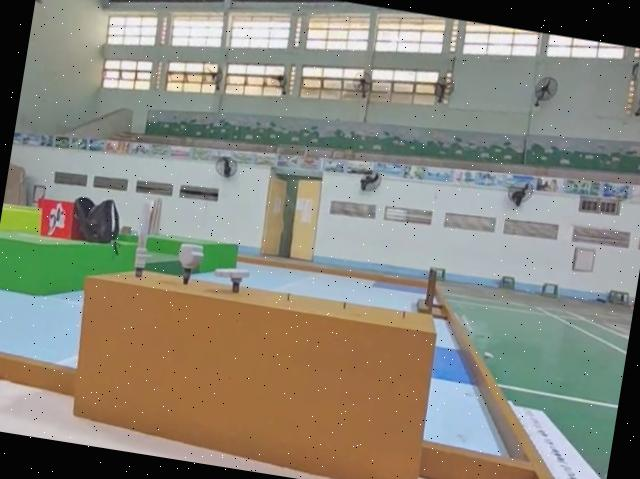Fist: (172, 240, 204, 285)
Hand: (208, 261, 253, 293)
Sph: (126, 200, 155, 280)
